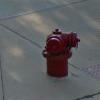Hydrant: (37, 20, 84, 98)
